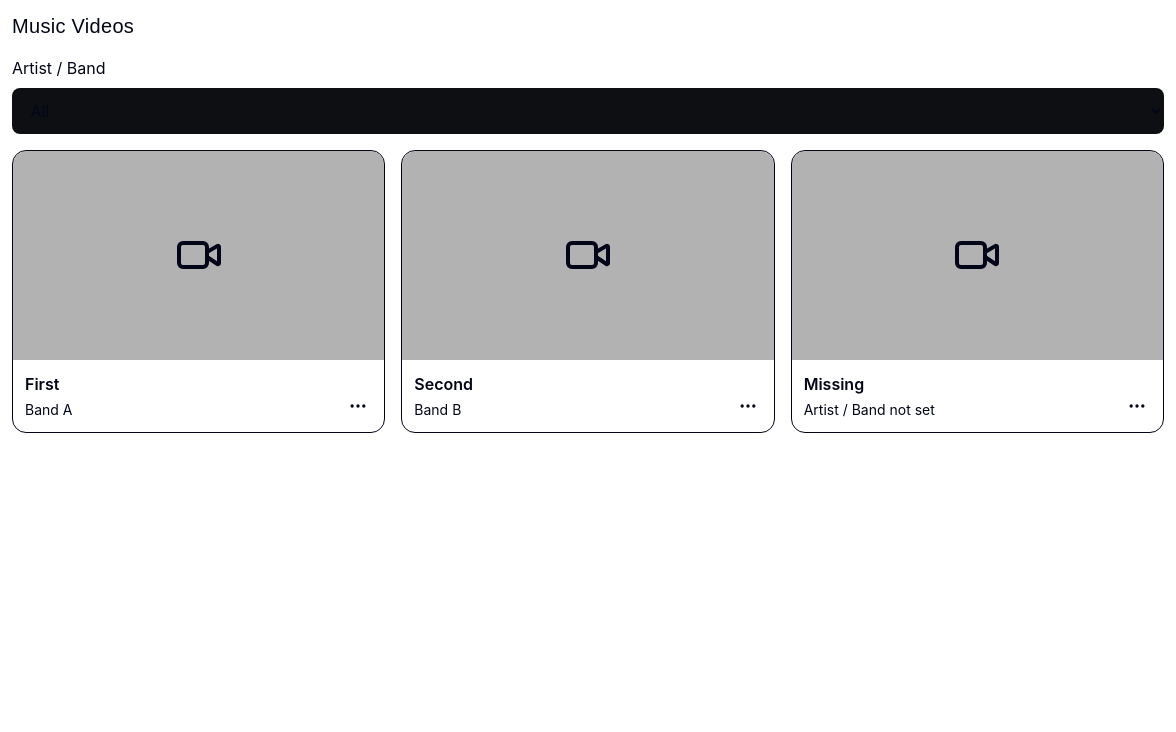
Scenario: restrained menu does not play; Favorites is first and updates immediately
The width and height of the screenshot is (1176, 732).
Press Enter in the button named "Options for First", box [336, 384, 380, 428]
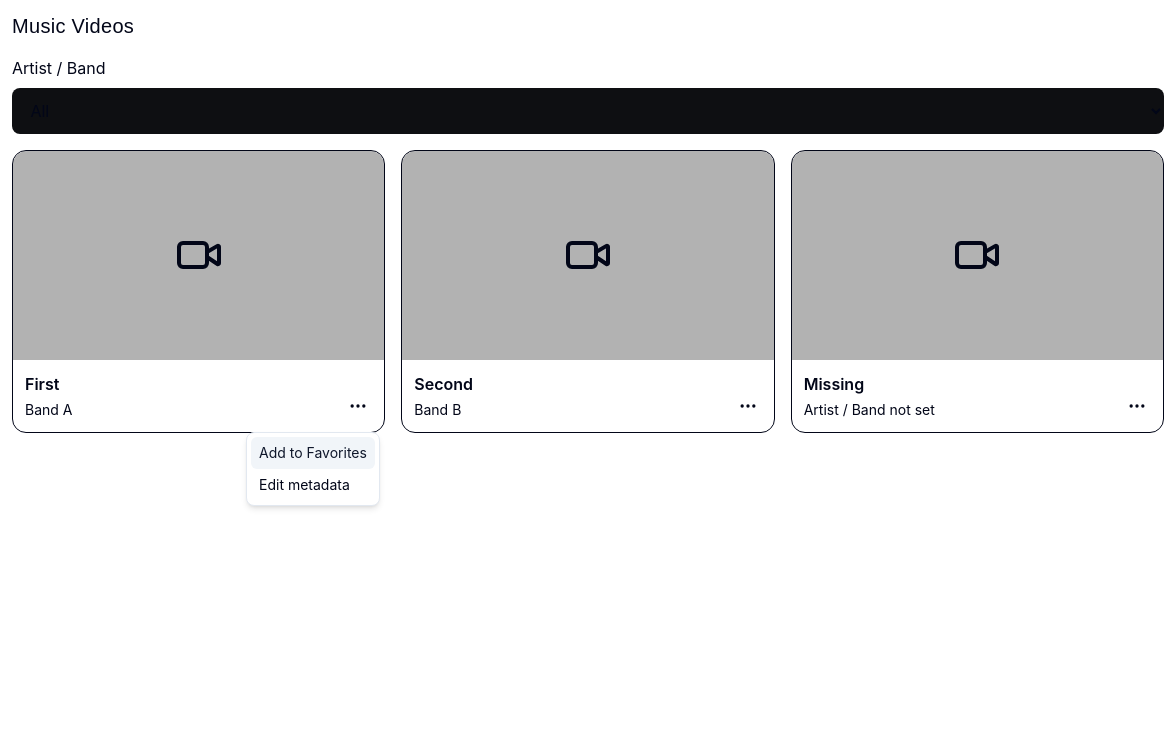
Expected: the number of menu items is 2
Click the menu item "Add to Favorites": (313, 453) [251, 437, 375, 469]
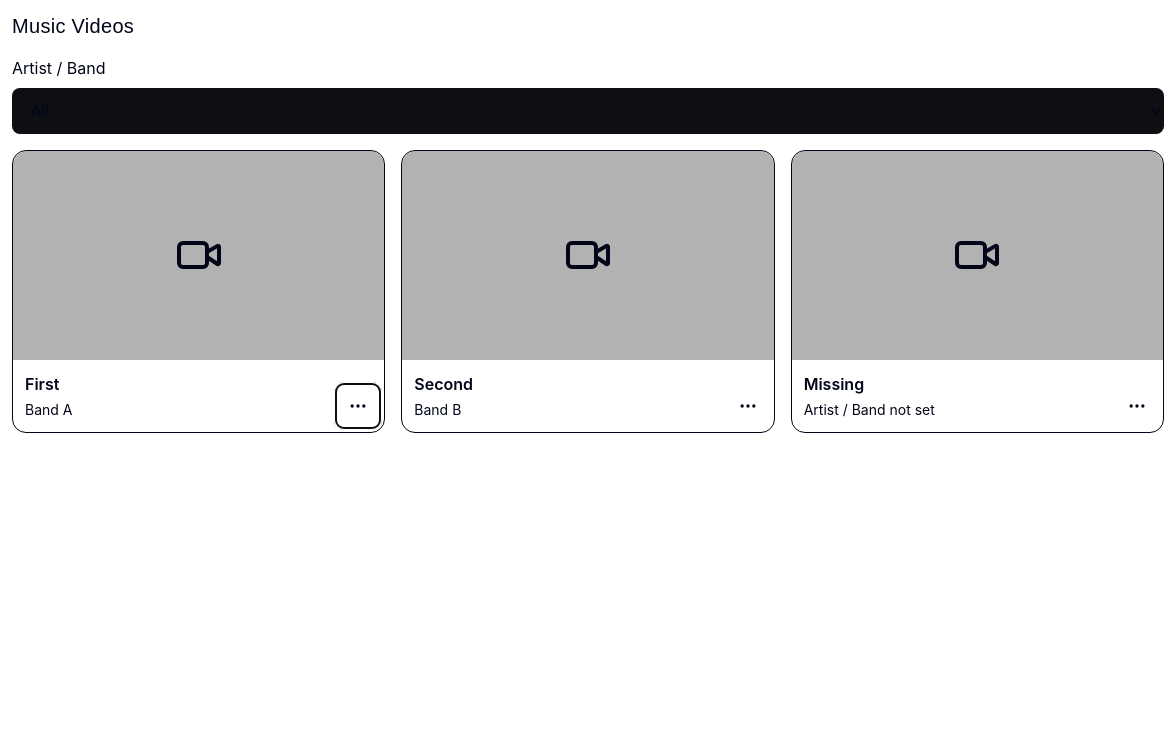
Select "Favorites" in the dropdown labelled "Artist / Band": (588, 111) [12, 88, 1164, 134]
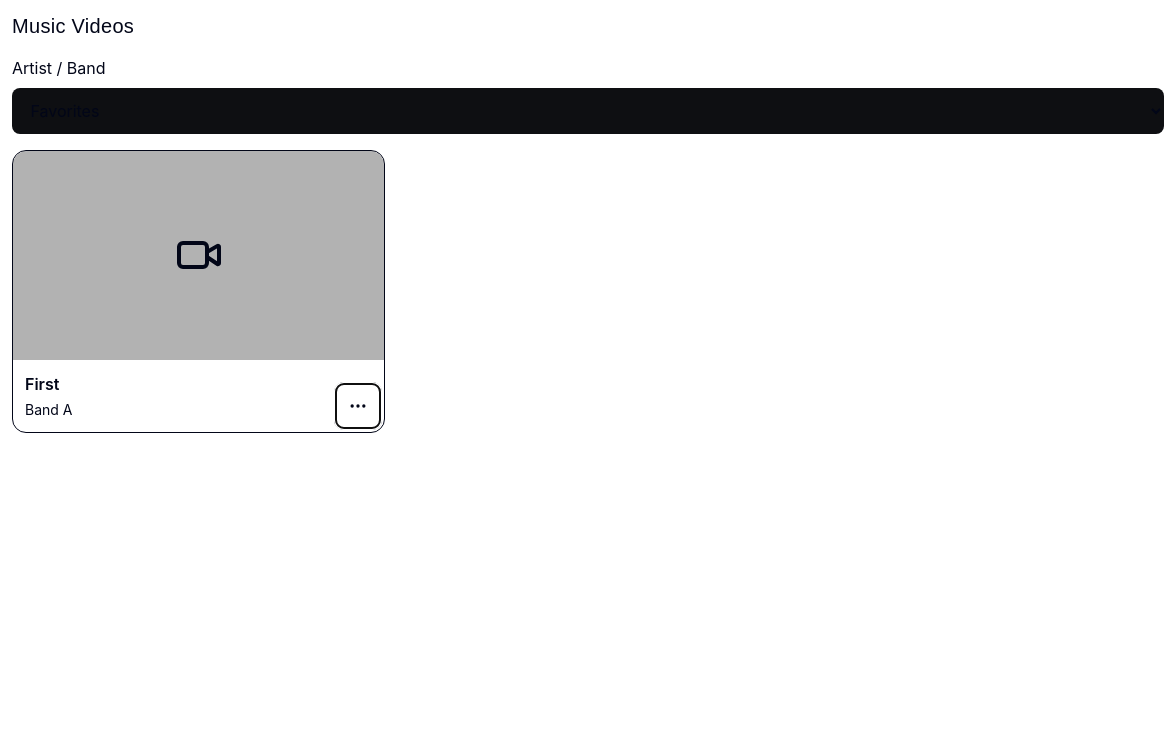
Press Enter in the button named "Options for First", box [336, 384, 380, 428]
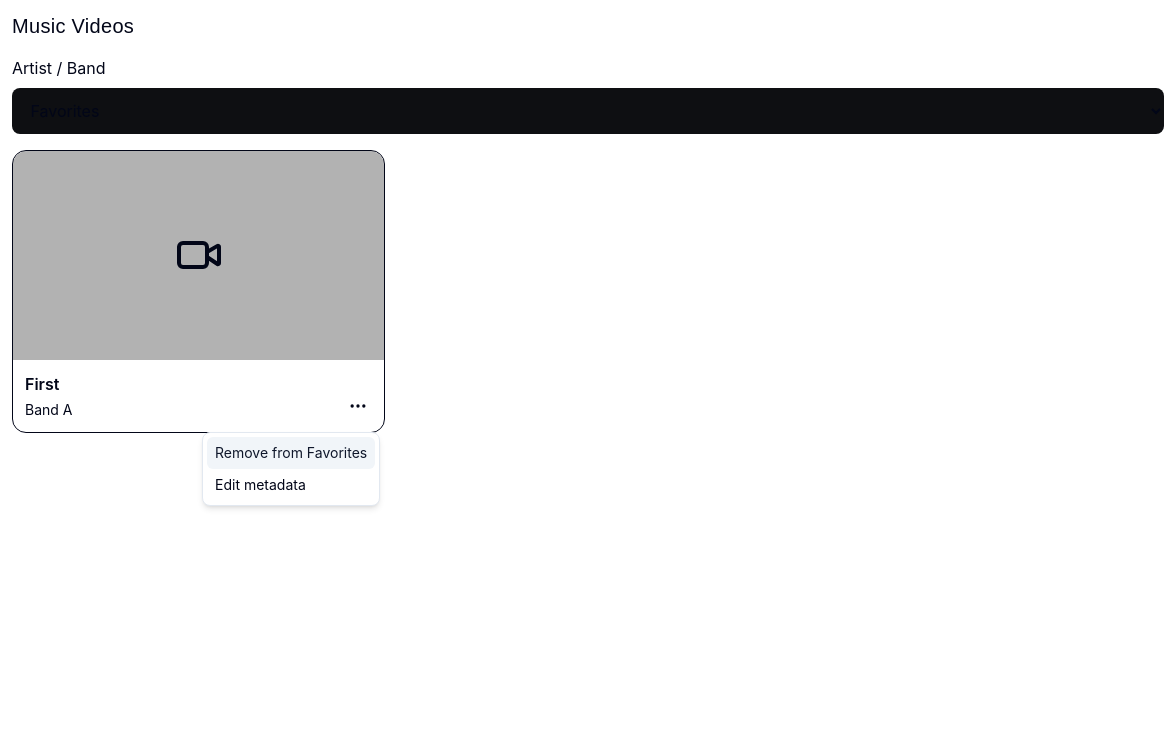
Click the menu item "Remove from Favorites": (291, 453) [207, 437, 375, 469]
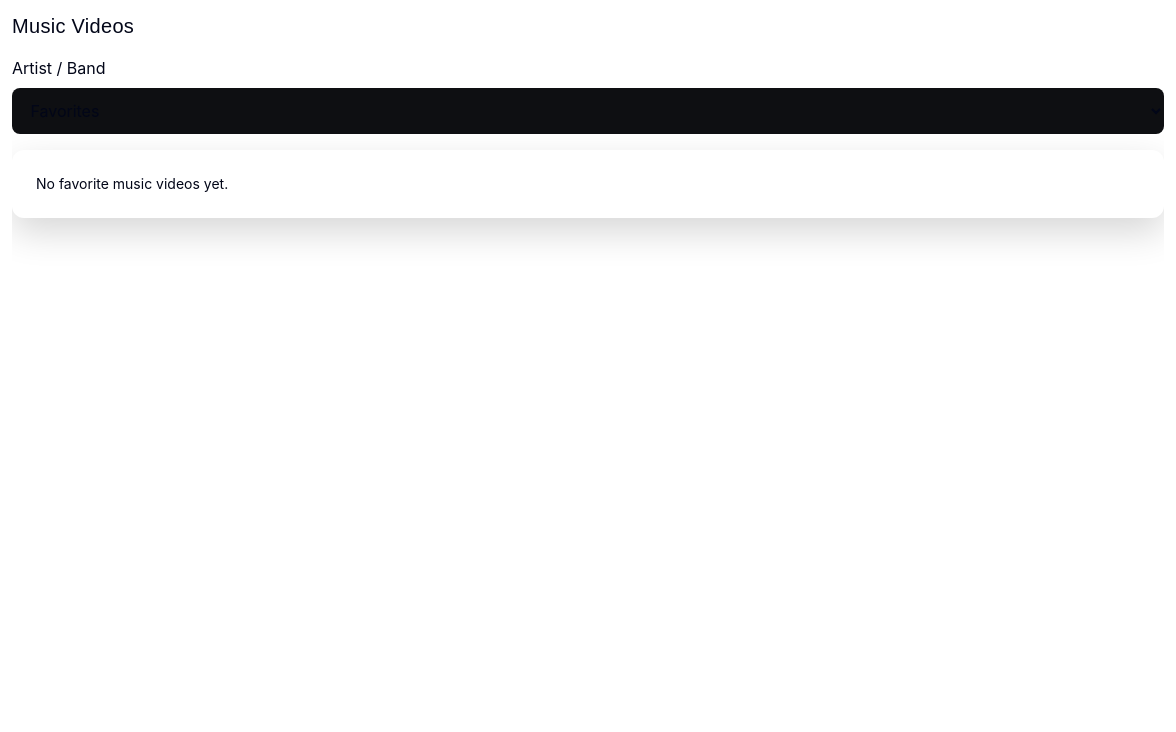
Expected: the text "No favorite music videos yet." is shown, [12, 150, 1164, 218]
